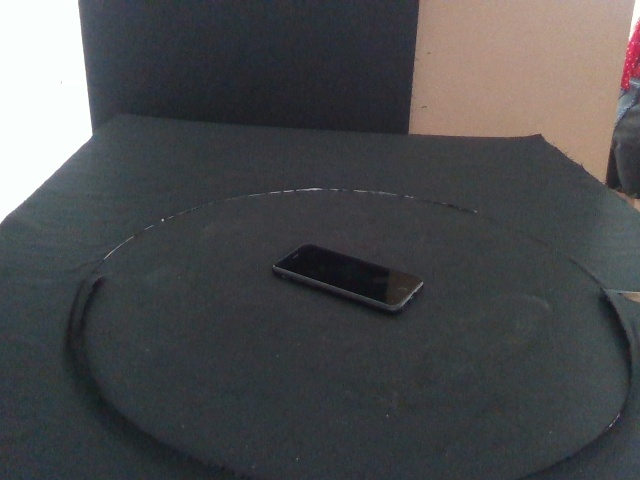phone: (270, 242, 425, 313)
